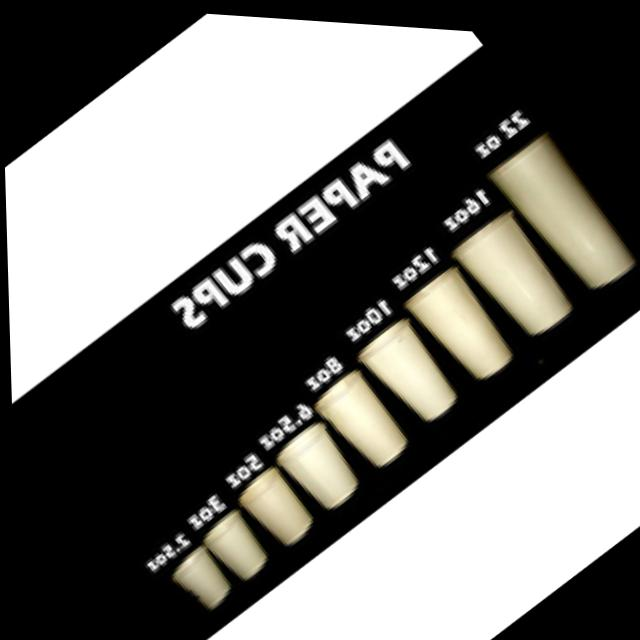paper_cups: (481, 113, 640, 298), (444, 197, 584, 347), (396, 254, 521, 389), (351, 301, 471, 430), (305, 358, 417, 477), (269, 411, 367, 514), (227, 455, 322, 554), (196, 501, 274, 583), (163, 540, 236, 617)
